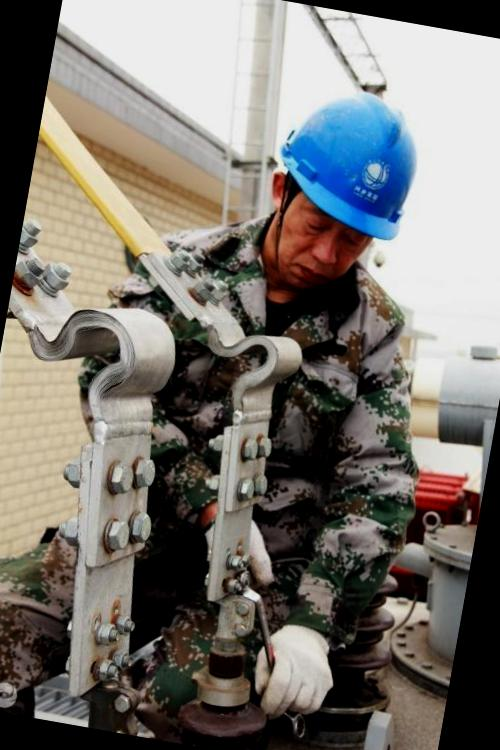helmet: (253, 83, 430, 264)
person: (124, 66, 494, 568)
